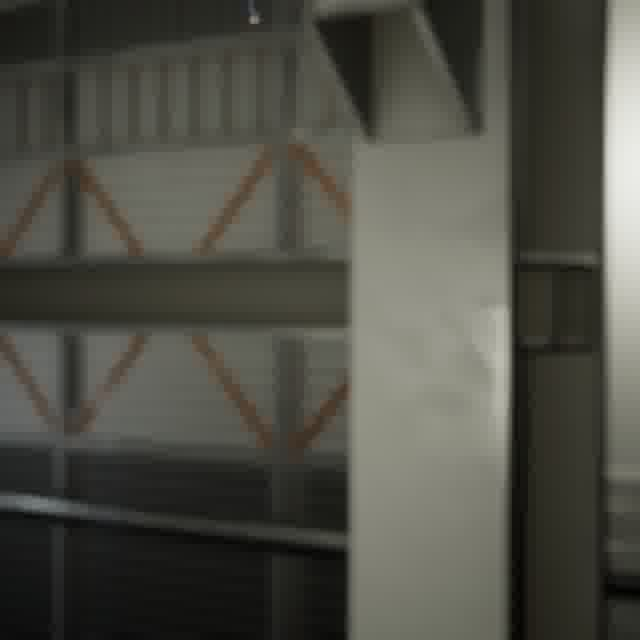bolt: (238, 0, 268, 29)
